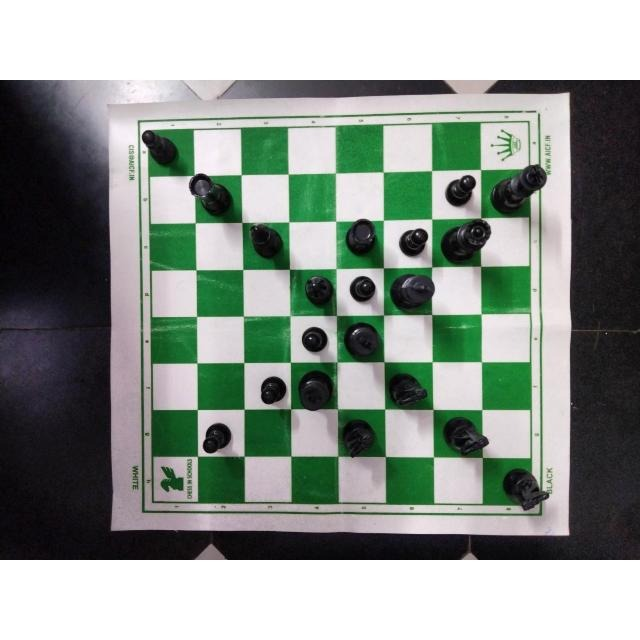black-bishop: (247, 221, 287, 260), (302, 275, 338, 312)
black-king: (489, 163, 549, 215), (388, 273, 437, 317), (297, 368, 339, 412), (343, 320, 385, 362)
black-knight: (498, 466, 552, 513), (440, 414, 490, 461), (387, 371, 431, 410), (340, 418, 377, 460)
black-pawn: (141, 126, 182, 168), (442, 173, 478, 209), (392, 226, 430, 259), (202, 421, 234, 455), (257, 373, 289, 406), (345, 274, 377, 306), (300, 325, 332, 353)
black-queen: (441, 218, 493, 268)
black-rook: (185, 171, 237, 217), (343, 218, 379, 257)
